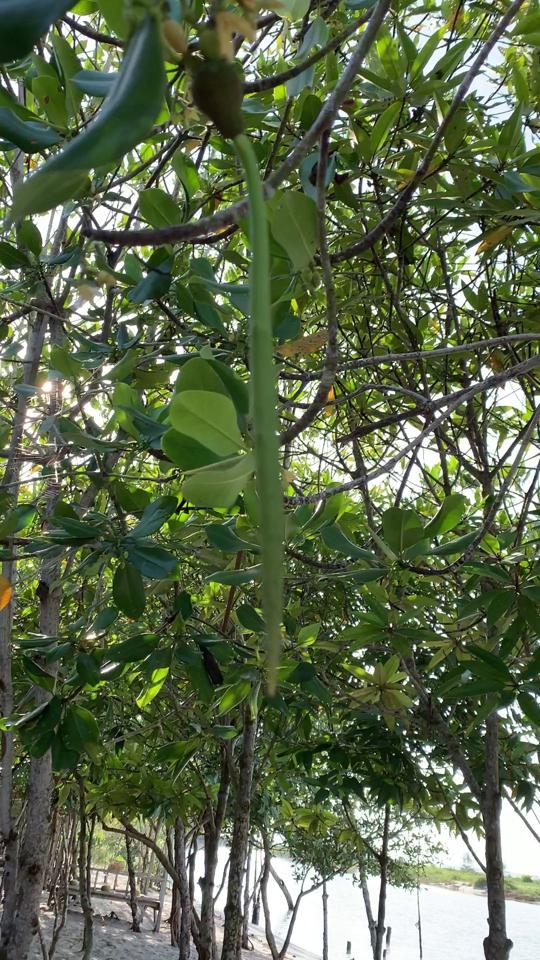mentah: (174, 32, 305, 710)
